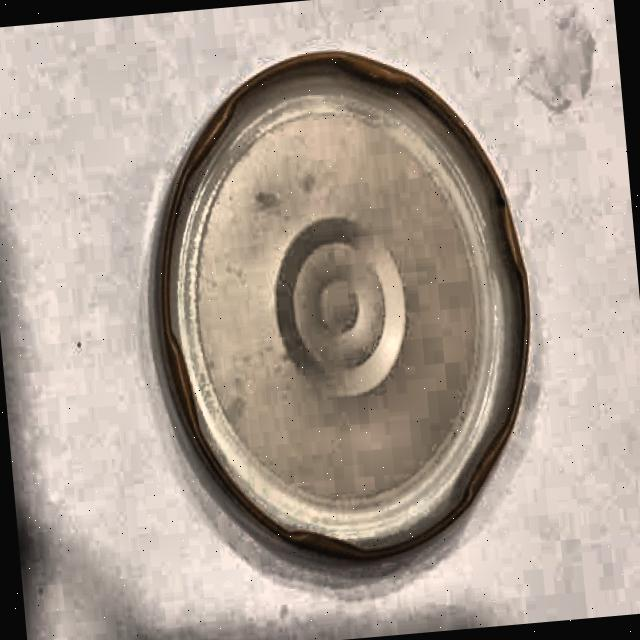metal: (142, 31, 554, 578)
